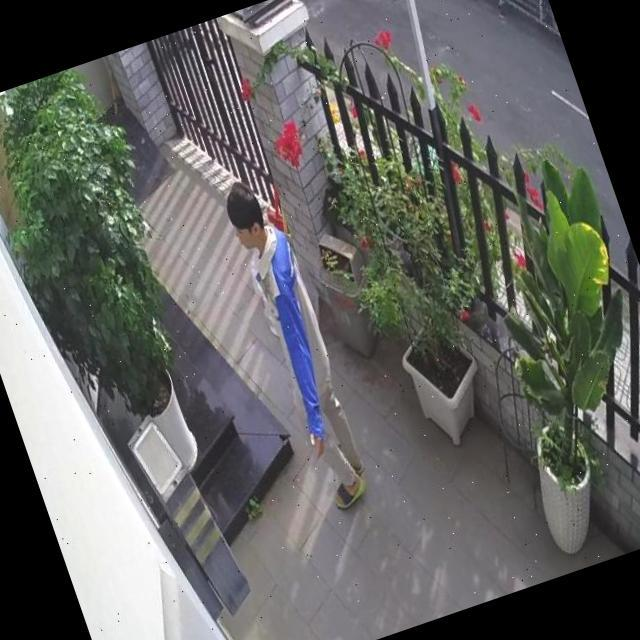person: (218, 171, 380, 514)
